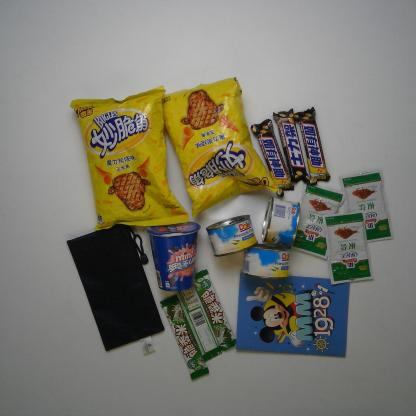Canned Food: (206, 214, 258, 257), (261, 198, 300, 252), (242, 245, 291, 279)
Chocolate: (160, 292, 211, 380), (176, 279, 222, 361), (191, 270, 238, 350), (250, 119, 295, 196), (271, 108, 311, 185), (292, 108, 333, 182)
Dessert: (145, 222, 200, 290)
Puffed Food: (154, 77, 278, 218), (70, 85, 189, 231)
Seasoner: (287, 184, 346, 259), (340, 167, 393, 245), (323, 212, 374, 284)
Stationery: (66, 220, 165, 352), (234, 270, 351, 356)
